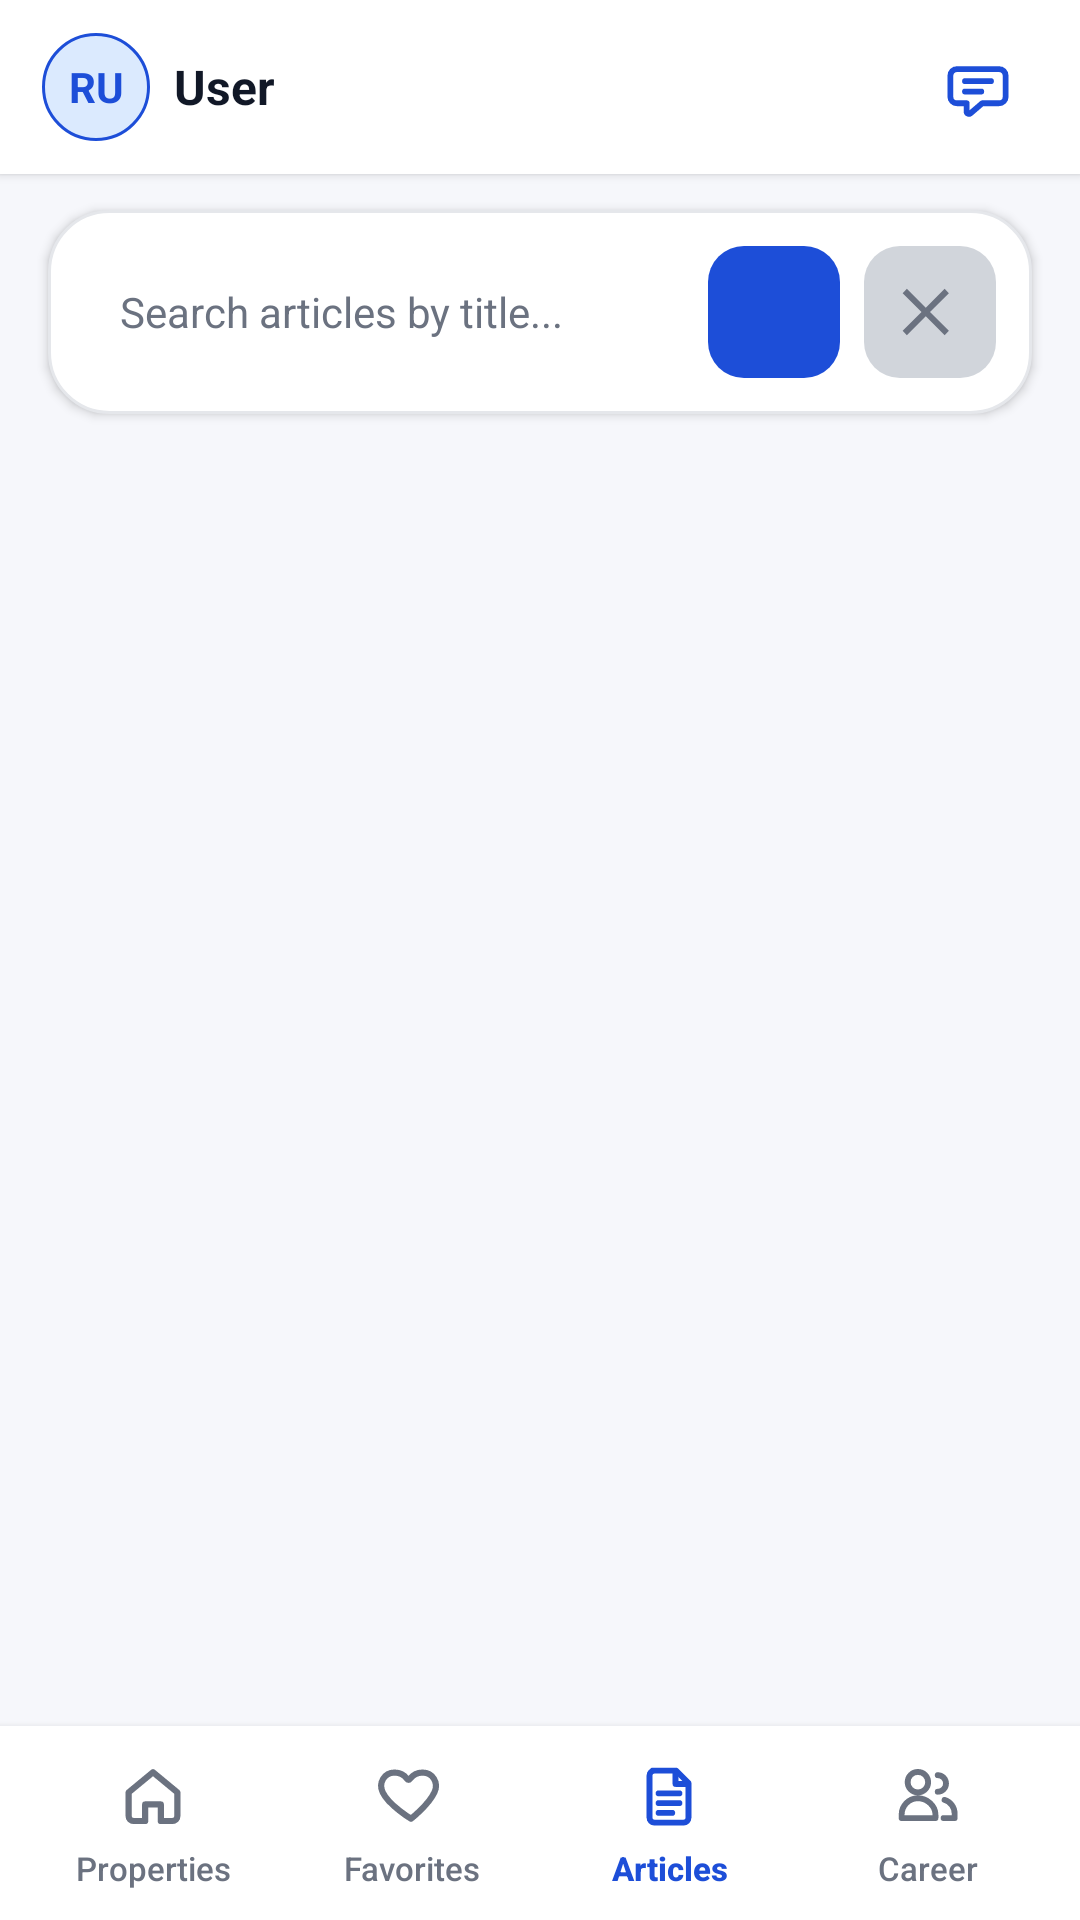

Named icons in this screenshot (1080px x 1920px) and their centers, [x,y]:
Clear: [930,312]
